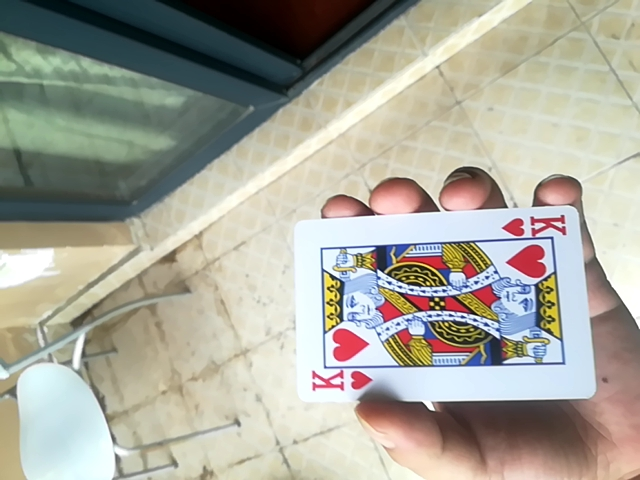hx k: (290, 205, 591, 406)
